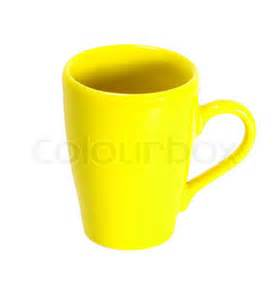???: (62, 44, 257, 251)
